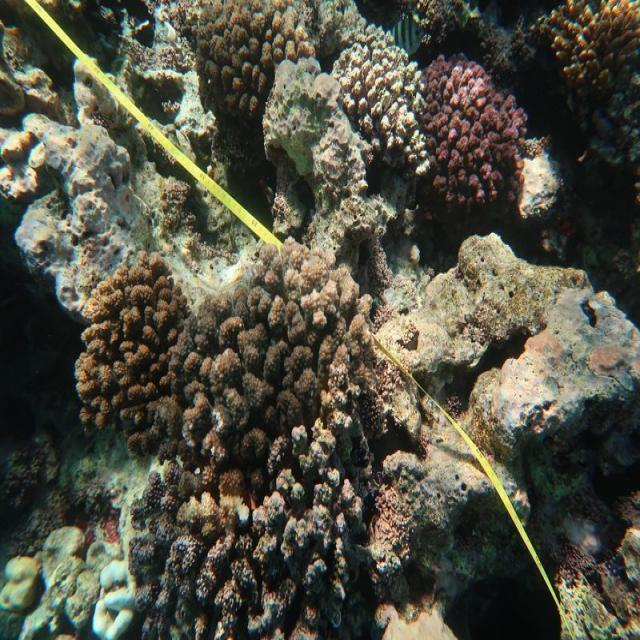Bleached Coral: (337, 35, 417, 164)
Dead Coral: (185, 273, 352, 462)
Healthy Coral: (423, 60, 530, 225), (73, 269, 180, 430), (188, 0, 293, 110), (547, 0, 640, 83)
